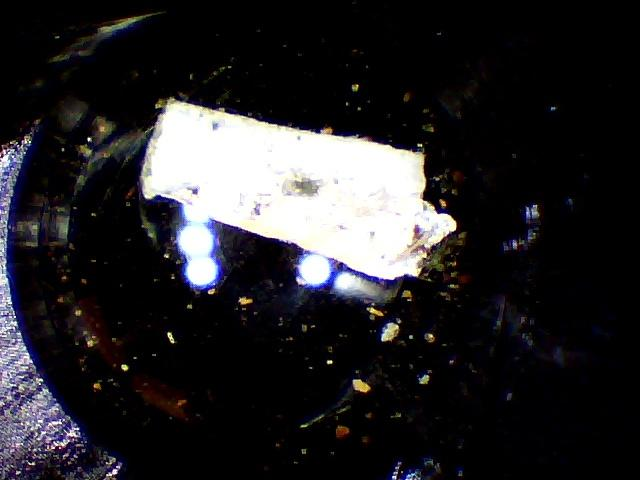megot: (129, 87, 463, 284)
